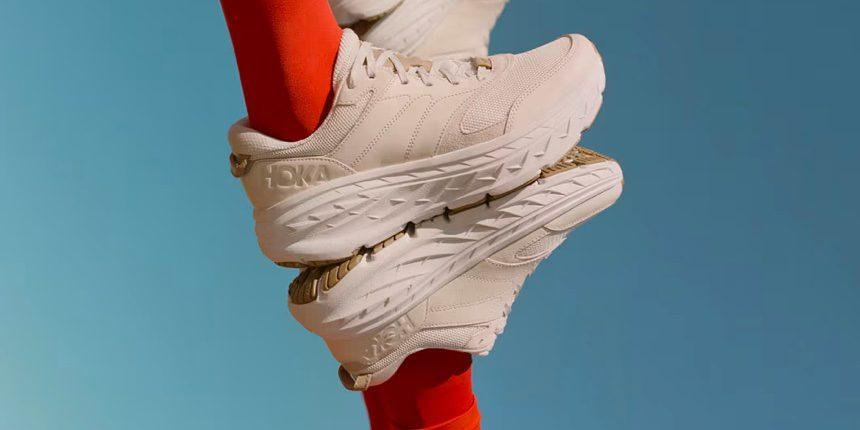hoka logo: (345, 301, 431, 375), (256, 156, 346, 205)
